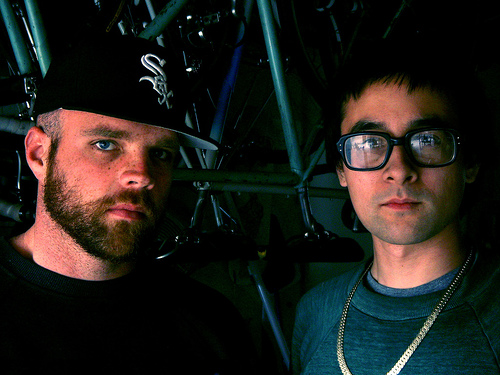without_mask: (331, 88, 479, 275), (20, 107, 189, 269)
